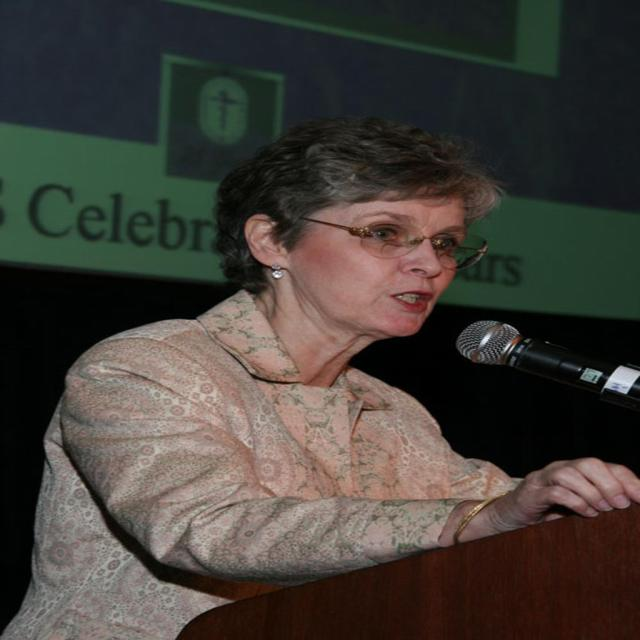nomask: (296, 184, 469, 336)
